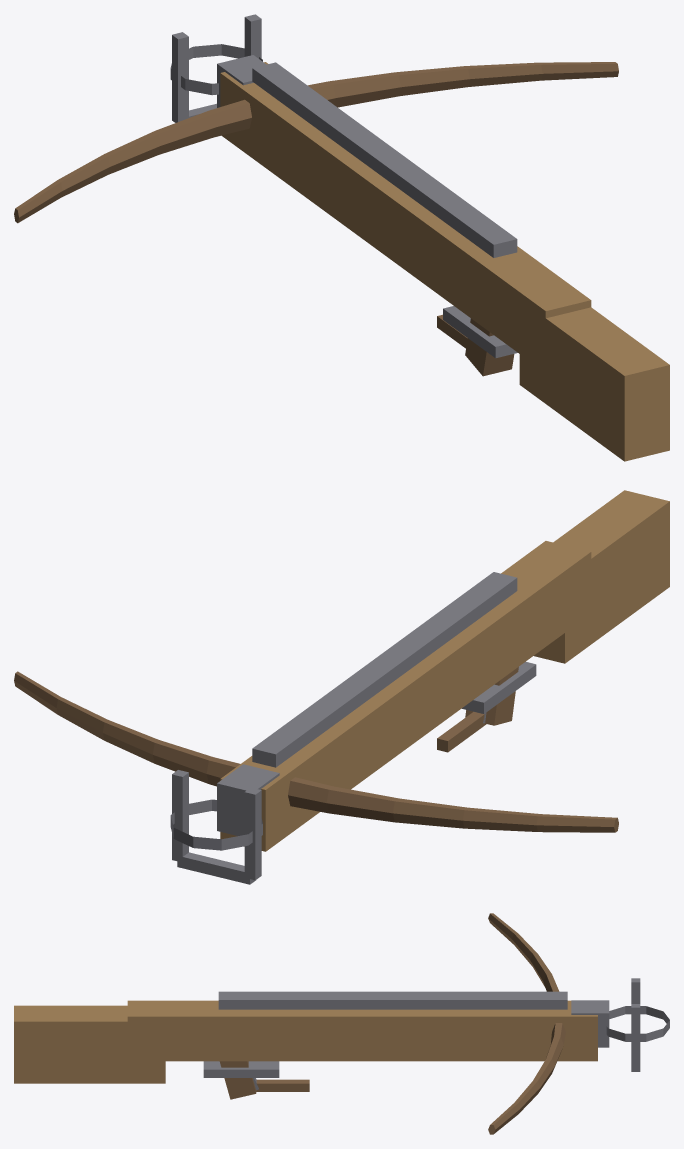
Rendered from arme_arbalete.glb.
The picture shows the model from 3 angles, top to bottom: view 1: azimuth 30°, elevation 25°; view 2: azimuth 150°, elevation 25°; view 3: azimuth 270°, elevation 25°; orthographic projection. The views are drawn at different scales.
Parts seen in each view (by area): view 1: arbalete_fut, arbalete_prod, arbalete_rail, arbalete_etrier, arbalete_poignee, arbalete_detente; view 2: arbalete_fut, arbalete_prod, arbalete_rail, arbalete_etrier, arbalete_poignee, arbalete_detente; view 3: arbalete_fut, arbalete_rail, arbalete_prod, arbalete_etrier, arbalete_poignee, arbalete_detente.
Boxes of the visible parts, left/top/right/bottom form: arbalete_fut: left=220, top=62, right=669, bottom=461; arbalete_prod: left=14, top=62, right=618, bottom=223; arbalete_rail: left=217, top=55, right=517, bottom=257; arbalete_etrier: left=170, top=14, right=262, bottom=122; arbalete_poignee: left=437, top=314, right=514, bottom=376; arbalete_detente: left=443, top=306, right=517, bottom=358; arbalete_fut: left=220, top=490, right=669, bottom=851; arbalete_prod: left=14, top=671, right=618, bottom=832; arbalete_rail: left=217, top=572, right=517, bottom=835; arbalete_etrier: left=170, top=770, right=262, bottom=884; arbalete_poignee: left=437, top=667, right=518, bottom=752; arbalete_detente: left=462, top=661, right=536, bottom=723; arbalete_fut: left=14, top=1000, right=597, bottom=1083; arbalete_rail: left=218, top=991, right=609, bottom=1047; arbalete_prod: left=488, top=913, right=565, bottom=1134; arbalete_etrier: left=606, top=978, right=669, bottom=1071; arbalete_poignee: left=219, top=1061, right=309, bottom=1099; arbalete_detente: left=203, top=1061, right=279, bottom=1090.
Bounding box in the file's own units: 0.858 × 0.1935 × 1.12.
